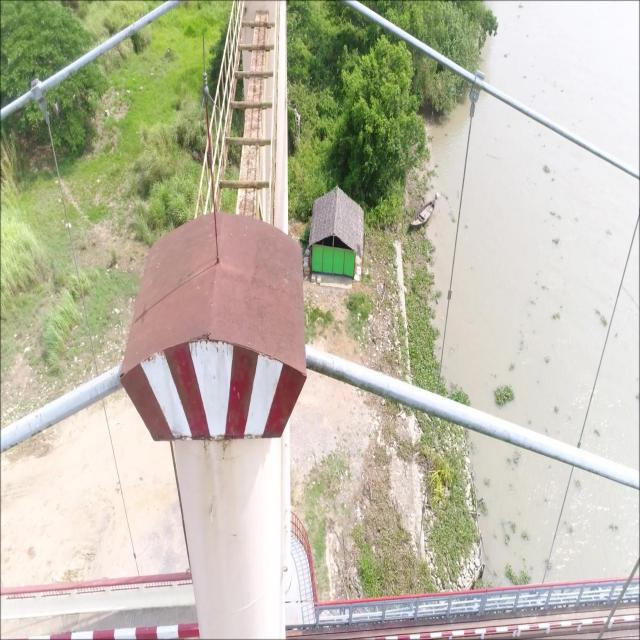crack: (329, 356, 335, 376), (27, 421, 34, 435), (478, 420, 485, 430)
